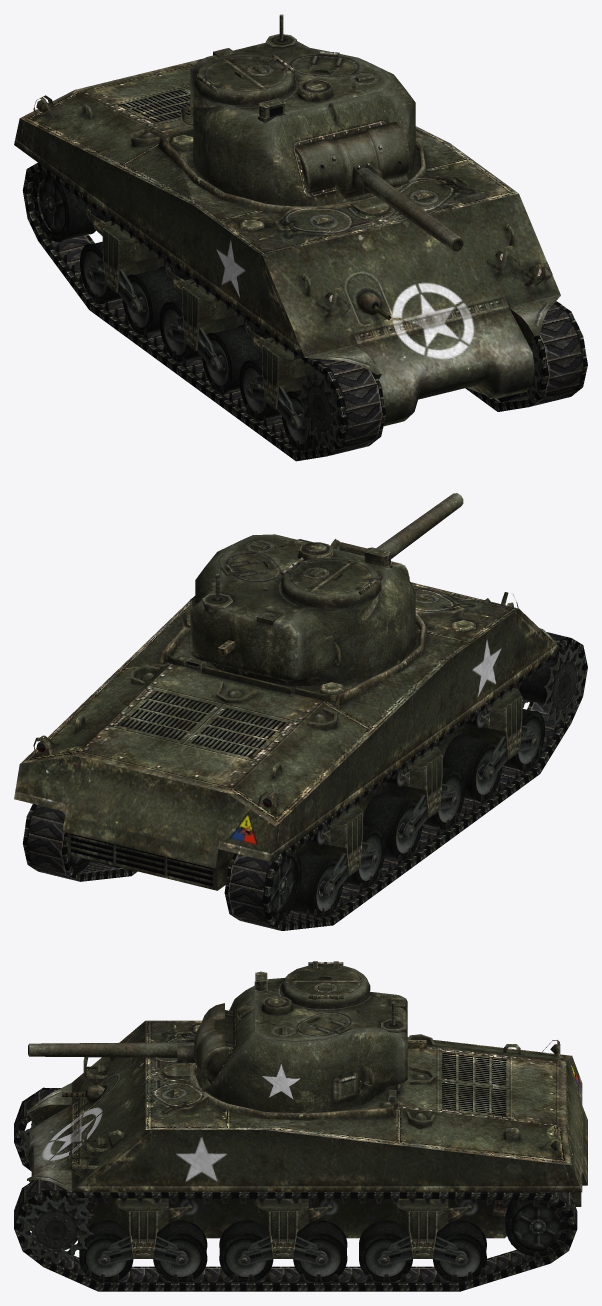
The model's file is M4A3_model_track.FBX.
3 renders of one model, top to bottom at view 1: azimuth 30°, elevation 25°; view 2: azimuth 150°, elevation 25°; view 3: azimuth 270°, elevation 25°, orthographic. The views are drawn at different scales.
Parts seen in each view (by area): view 1: body, Righttrack, turret, cannon, Lefttrack; view 2: body, turret, Righttrack, Lefttrack, cannon; view 3: body, Lefttrack, turret, cannon, Righttrack.
Part boxes in pixels (bbox=[...]): body: bbox=[14, 59, 560, 429]; Righttrack: bbox=[22, 163, 385, 461]; turret: bbox=[181, 14, 415, 206]; cannon: bbox=[295, 122, 463, 251]; Lefttrack: bbox=[465, 301, 587, 411]; body: bbox=[14, 582, 560, 897]; turret: bbox=[182, 534, 415, 686]; Righttrack: bbox=[224, 632, 587, 930]; Lefttrack: bbox=[22, 804, 137, 881]; cannon: bbox=[298, 493, 463, 579]; body: bbox=[27, 1020, 587, 1265]; Lefttrack: bbox=[14, 1179, 577, 1291]; turret: bbox=[206, 961, 426, 1113]; cannon: bbox=[28, 1003, 224, 1091]; Righttrack: bbox=[14, 1087, 60, 1170].
Size of the model in its own units: 2.63 by 2.79 by 5.81.
2 materials, 2 textured.
